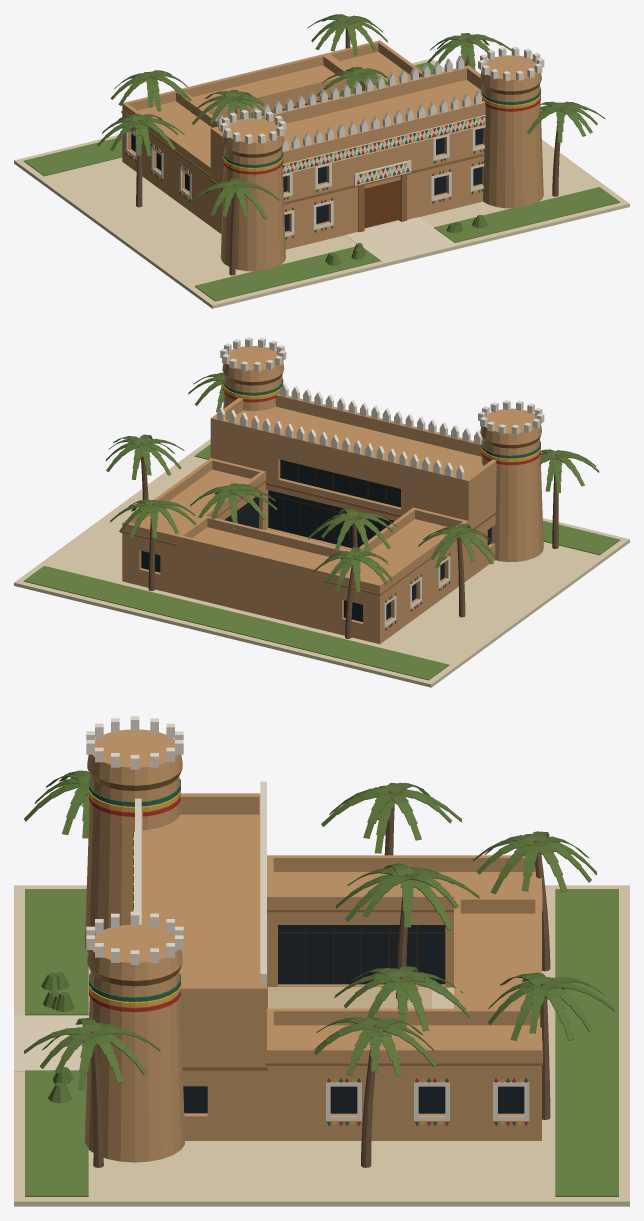
Rendered from haili.glb.
3 renders of one model, top to bottom at view 1: azimuth 30°, elevation 25°; view 2: azimuth 150°, elevation 25°; view 3: azimuth 270°, elevation 25°, orthographic. The views are drawn at different scales.
Visible parts, largest first — view 1: Haili_mud, Haili_pave, Haili_white, Haili_leaf, Haili_lawn, Haili_coping, Haili_mud_dark, Haili_glass, Haili_trunk, Haili_door, Haili_green, Haili_ochre (+1 smaller); view 2: Haili_mud, Haili_pave, Haili_lawn, Haili_leaf, Haili_white, Haili_glass, Haili_trunk, Haili_mud_dark, Haili_frame, Haili_green, Haili_ochre; view 3: Haili_mud, Haili_pave, Haili_lawn, Haili_leaf, Haili_glass, Haili_white, Haili_trunk, Haili_mud_dark, Haili_coping, Haili_court, Haili_green, Haili_ochre (+2 smaller).
Boxes of the visible parts, x1,y1,x2,y2 form: Haili_mud: (122, 40, 543, 271); Haili_pave: (14, 59, 629, 308); Haili_white: (125, 46, 544, 236); Haili_leaf: (97, 14, 605, 265); Haili_lawn: (23, 62, 620, 301); Haili_coping: (345, 217, 457, 263); Haili_mud_dark: (121, 82, 540, 232); Haili_glass: (131, 98, 483, 231); Haili_trunk: (136, 19, 562, 275); Haili_door: (364, 180, 398, 228); Haili_green: (129, 87, 540, 239); Haili_ochre: (127, 93, 540, 238); Haili_mud: (122, 346, 543, 644); Haili_pave: (14, 439, 629, 687); Haili_lawn: (23, 444, 619, 680); Haili_leaf: (105, 372, 599, 592); Haili_white: (217, 337, 544, 628); Haili_glass: (141, 459, 491, 621); Haili_trunk: (140, 442, 558, 638); Haili_mud_dark: (121, 372, 540, 595); Haili_frame: (227, 464, 390, 547); Haili_green: (223, 377, 540, 627); Haili_ochre: (223, 383, 540, 629); Haili_mud: (85, 729, 541, 1162); Haili_pave: (14, 885, 629, 1206); Haili_lawn: (25, 889, 618, 1196); Haili_leaf: (24, 770, 614, 1103); Haili_glass: (183, 925, 524, 1113); Haili_white: (86, 716, 529, 1120); Haili_trunk: (91, 790, 550, 1167); Haili_mud_dark: (88, 769, 542, 1070); Haili_coping: (14, 1015, 88, 1071); Haili_court: (268, 987, 431, 1008); Haili_green: (89, 778, 528, 1126); Haili_ochre: (89, 790, 522, 1126).
Size of the model in its own units: 34 by 10.7 by 28.
